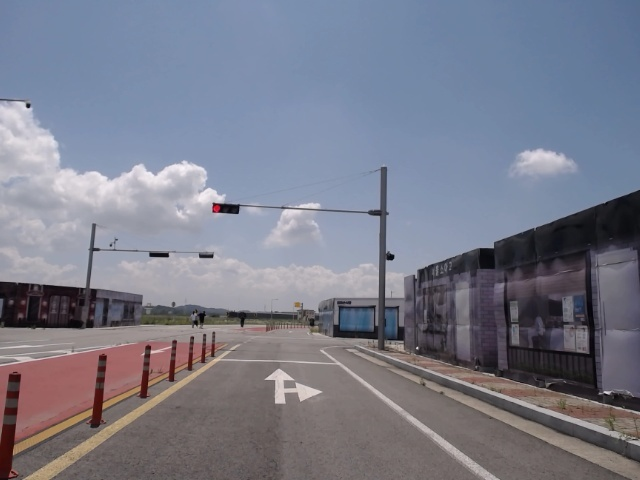red_3: (211, 201, 240, 214)
